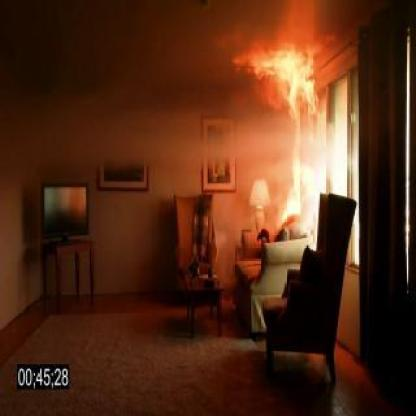Fire: (228, 27, 322, 122), (282, 127, 313, 228)
